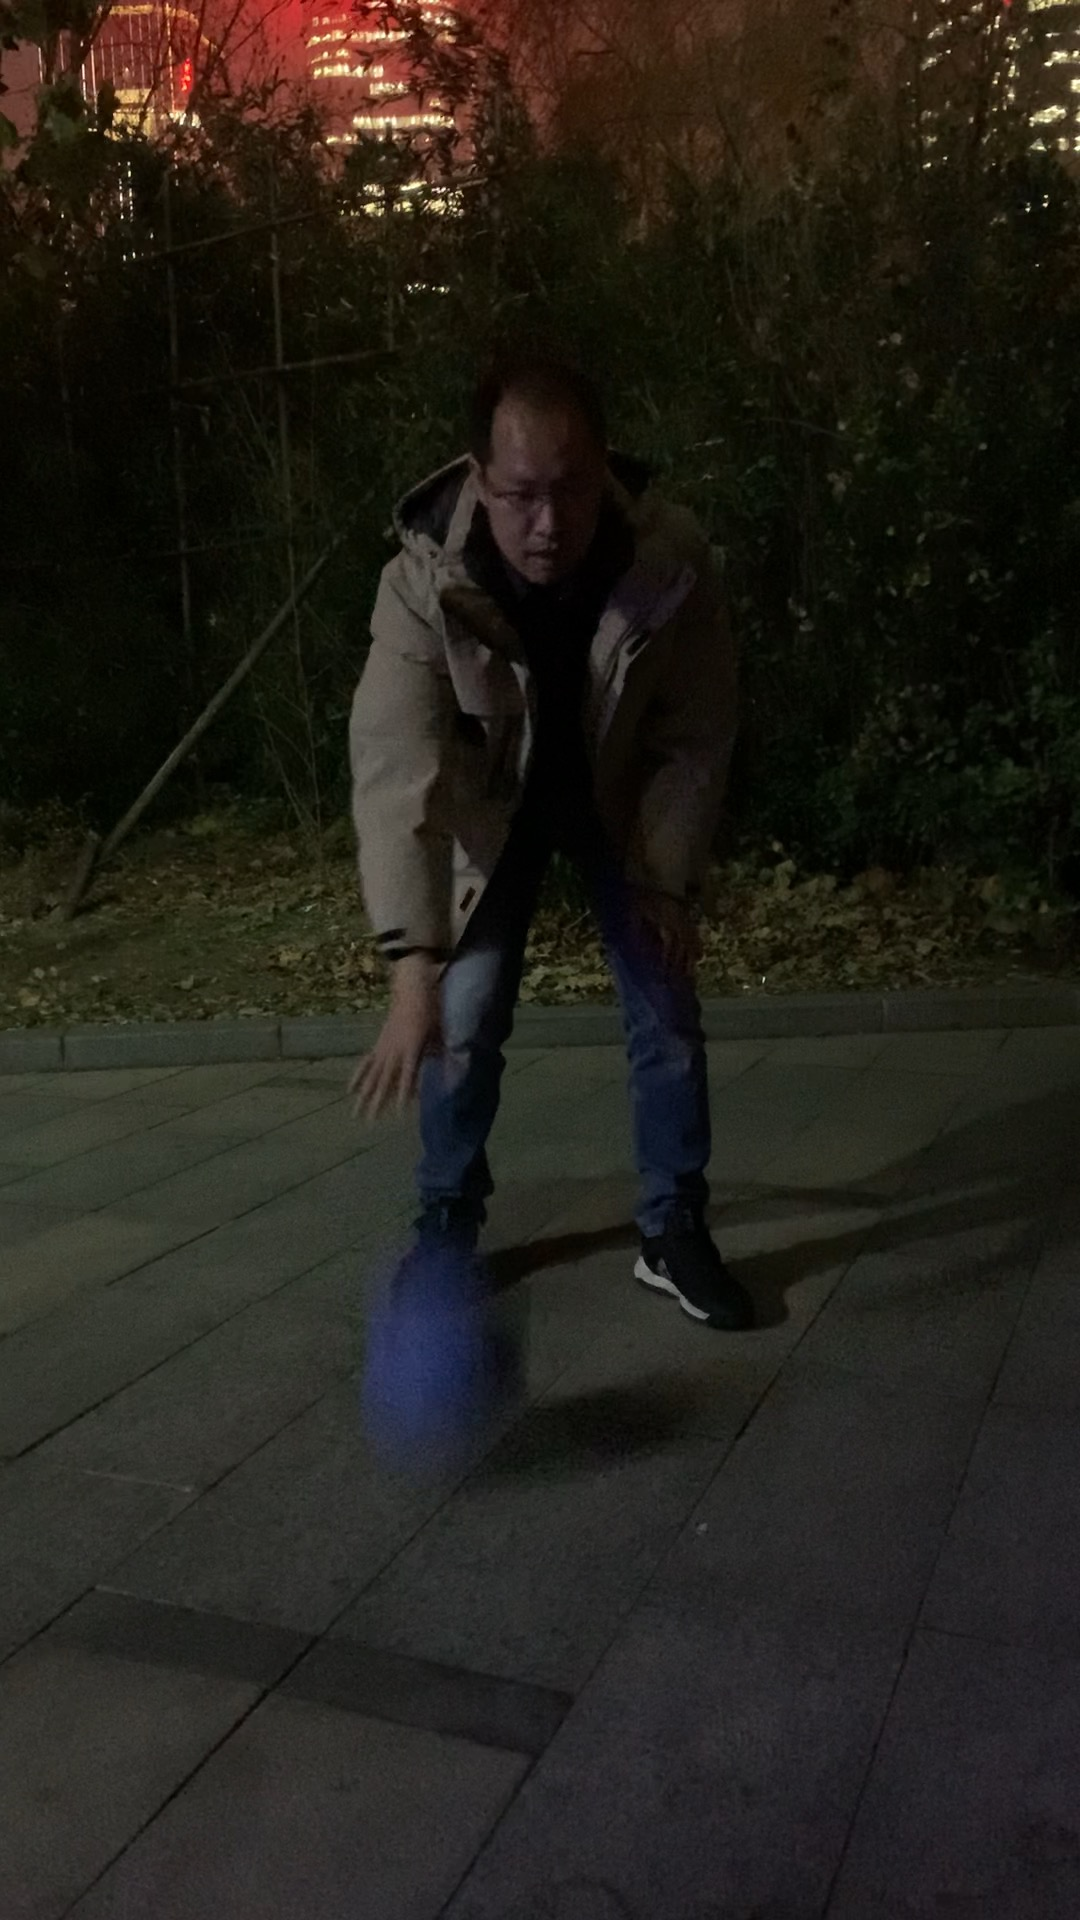ball: (349, 1299, 534, 1468)
